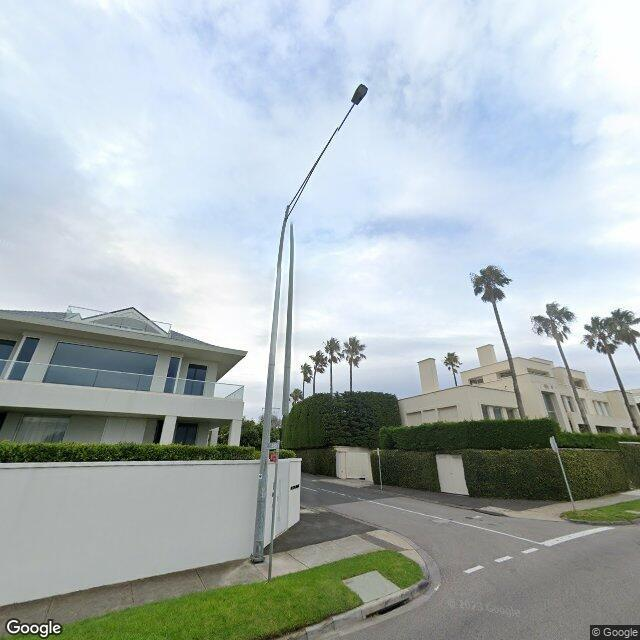steel-pole: (249, 204, 290, 565)
streetlight: (286, 83, 370, 217)
